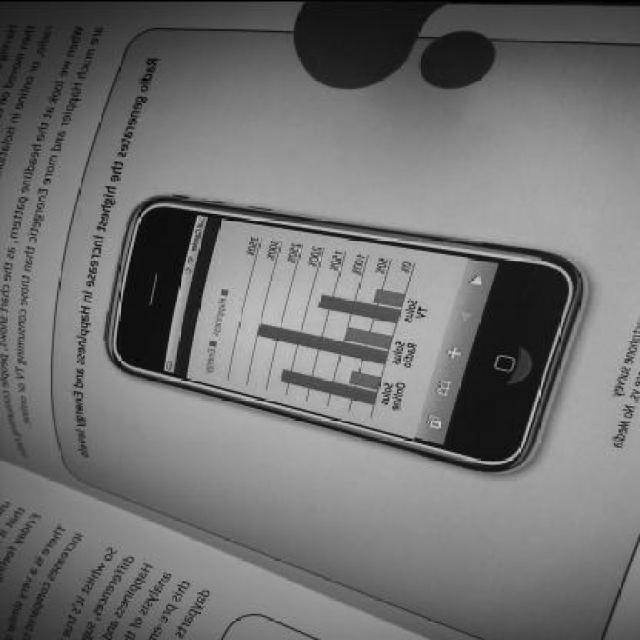fake: (108, 194, 586, 477)
